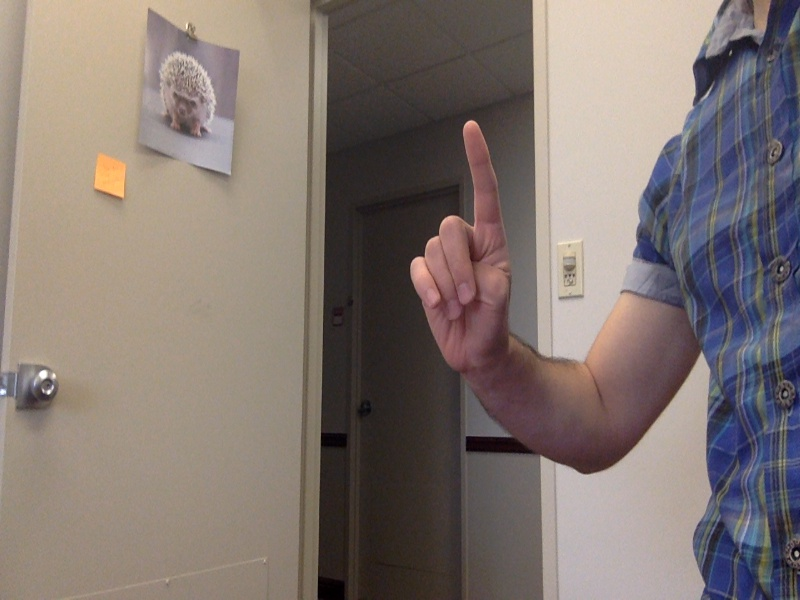1-hand: (400, 121, 516, 380)
